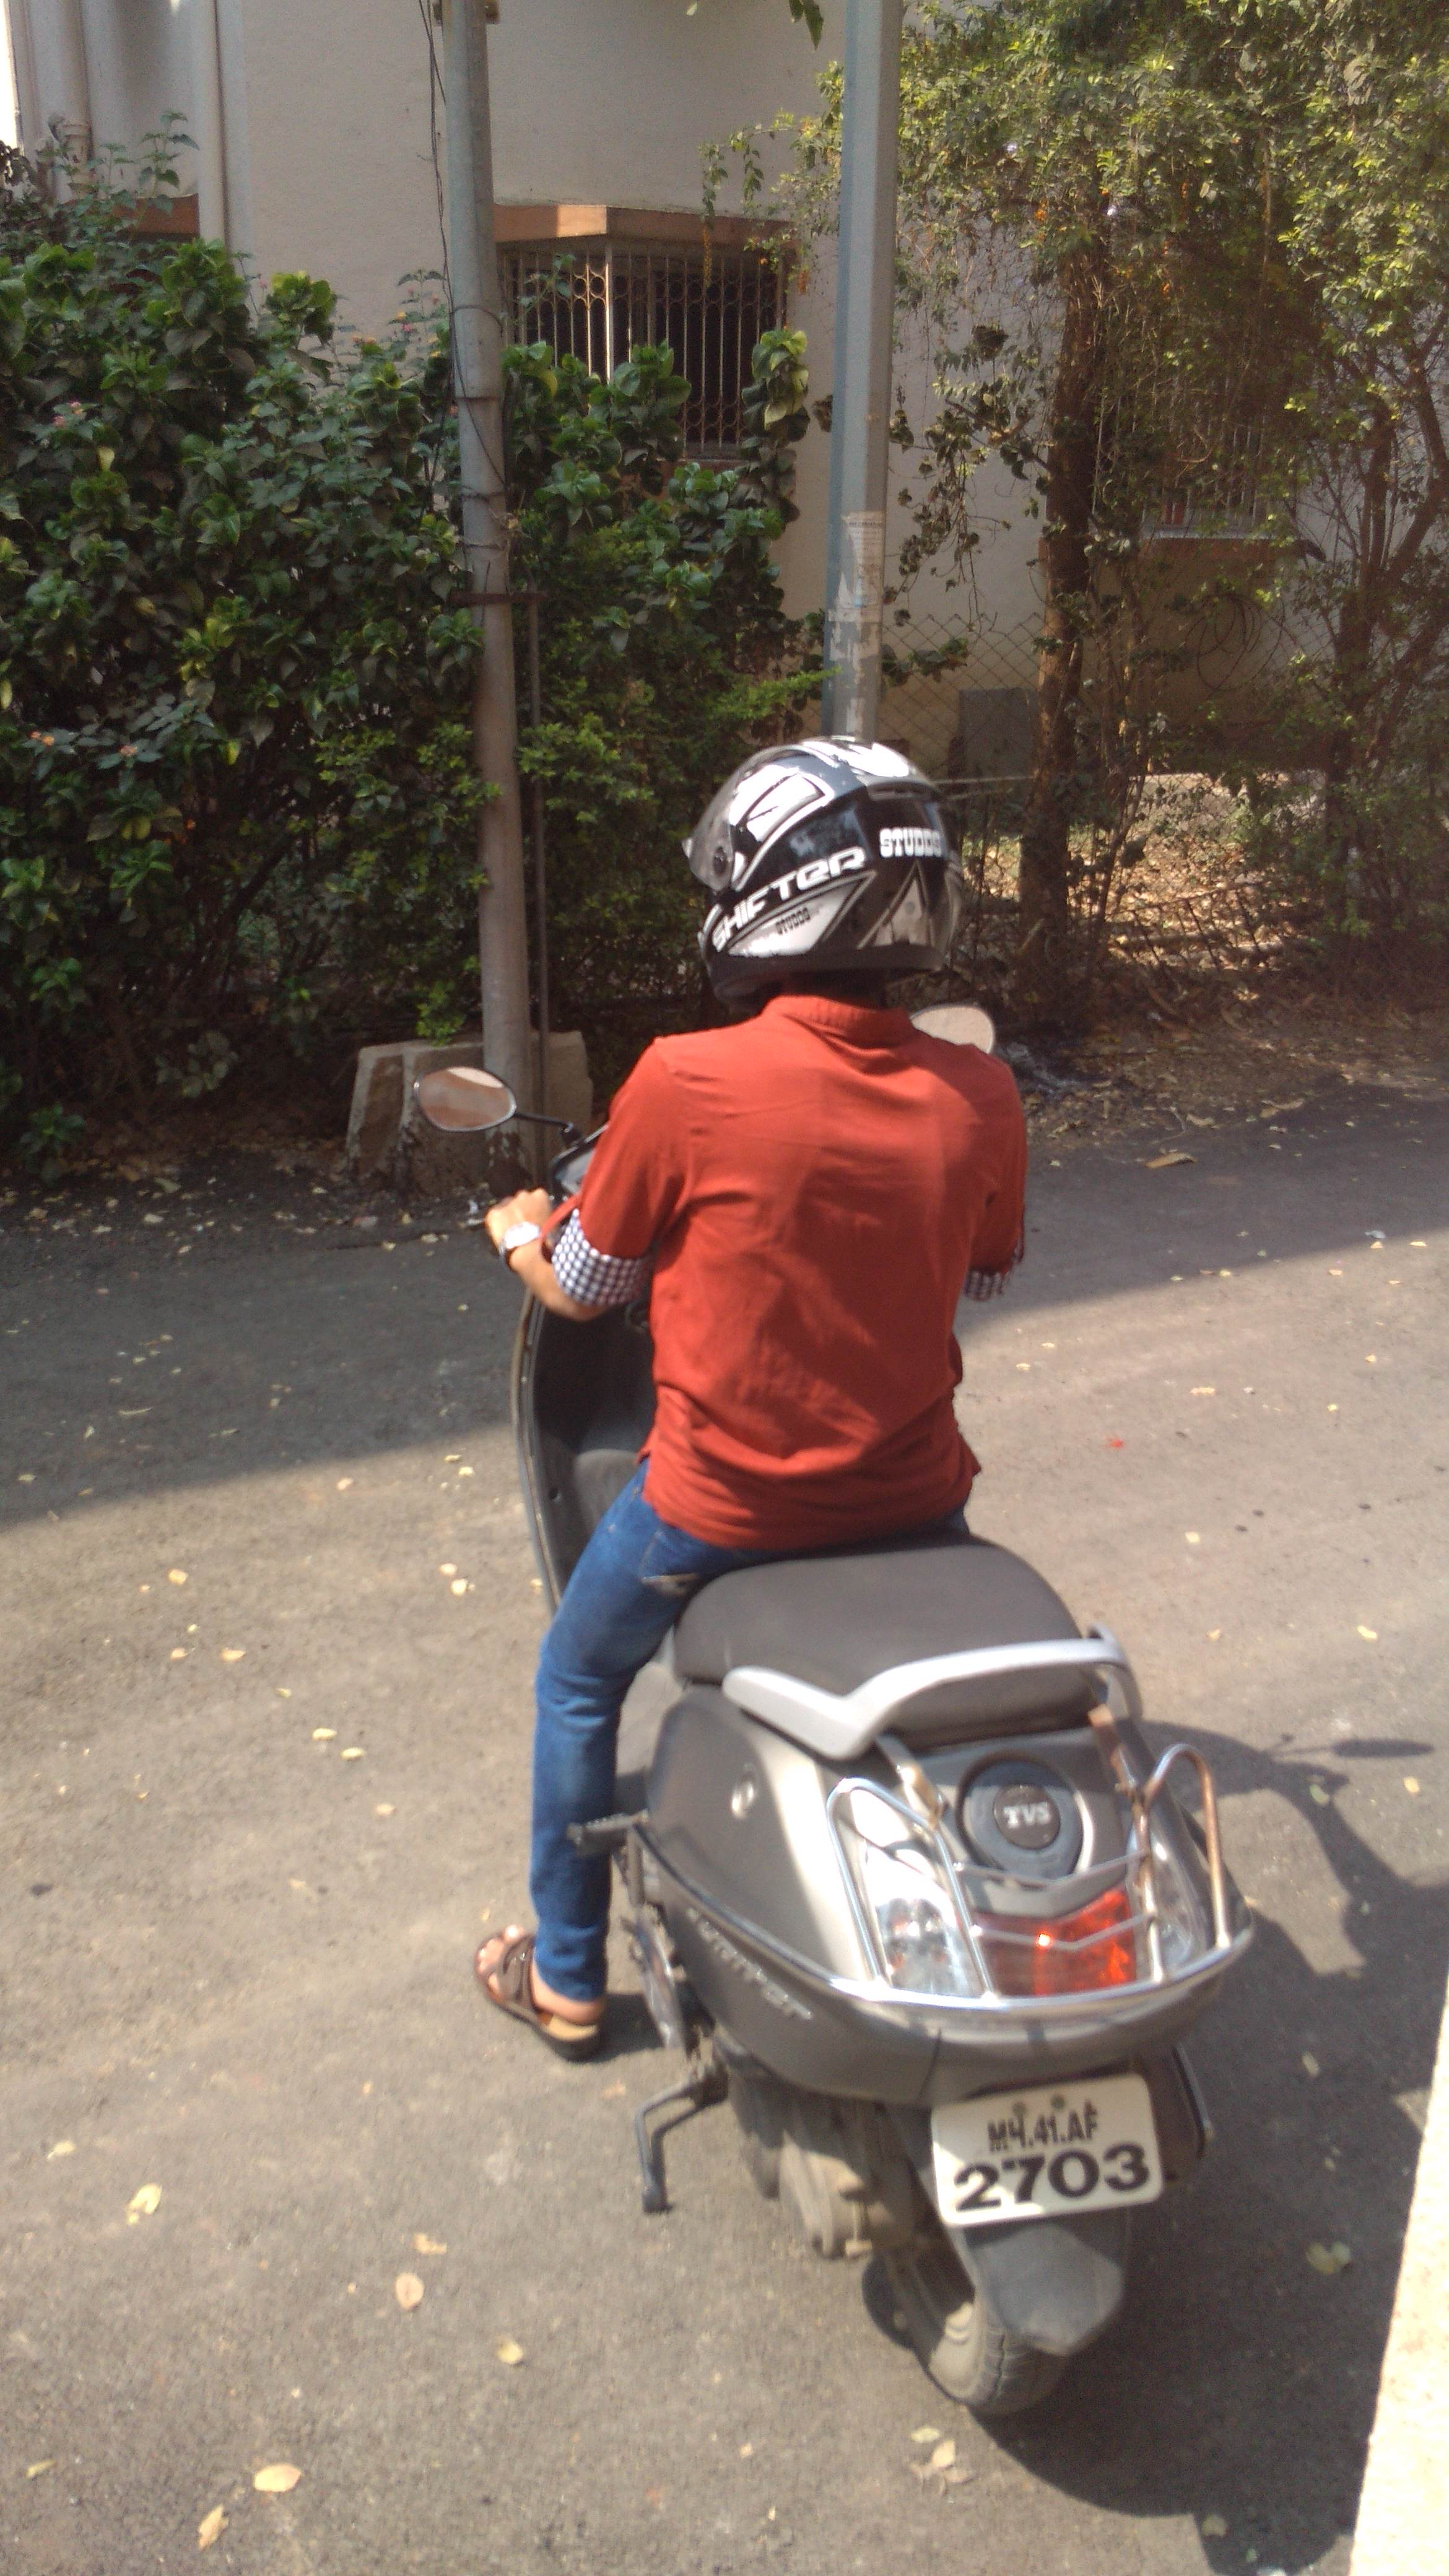helmet: (373, 731, 1345, 2390)
